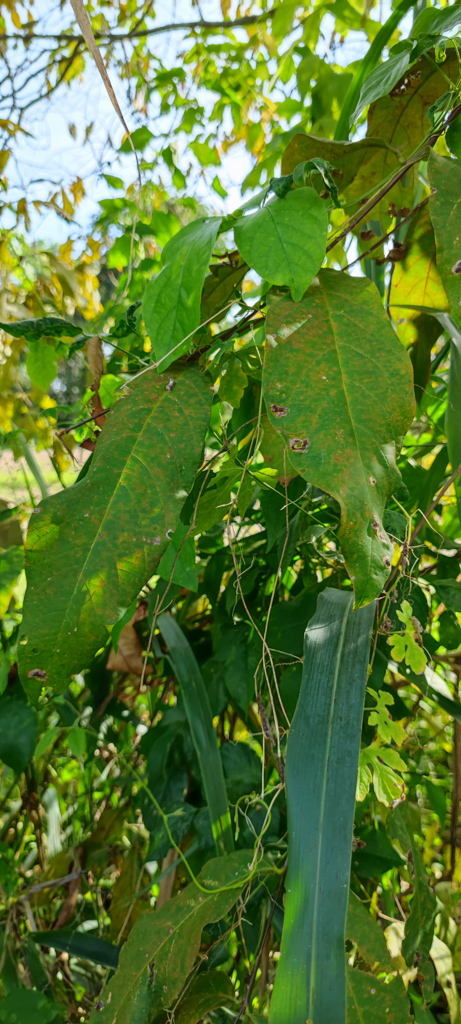frog-eye leafspot: (19, 359, 215, 707), (261, 281, 413, 605)
